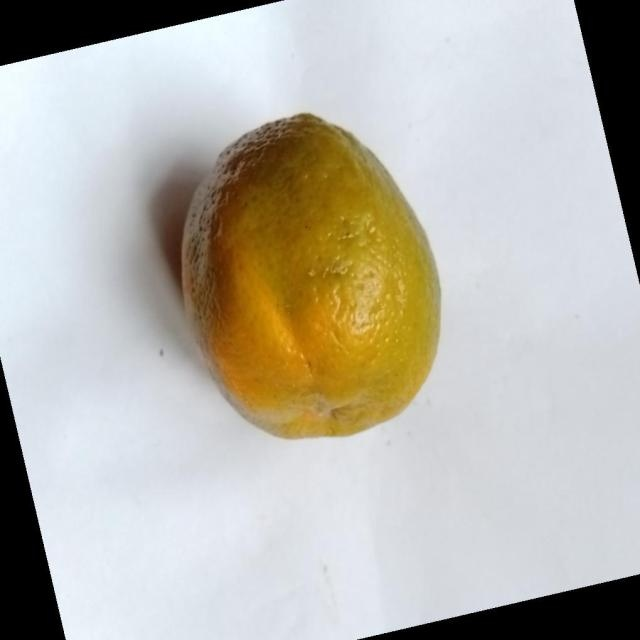agrume: (178, 111, 442, 439)
